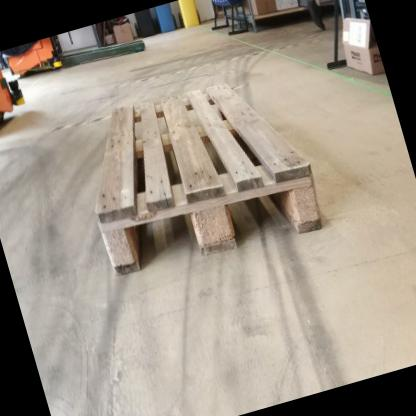BoxFace: (92, 76, 330, 281)
